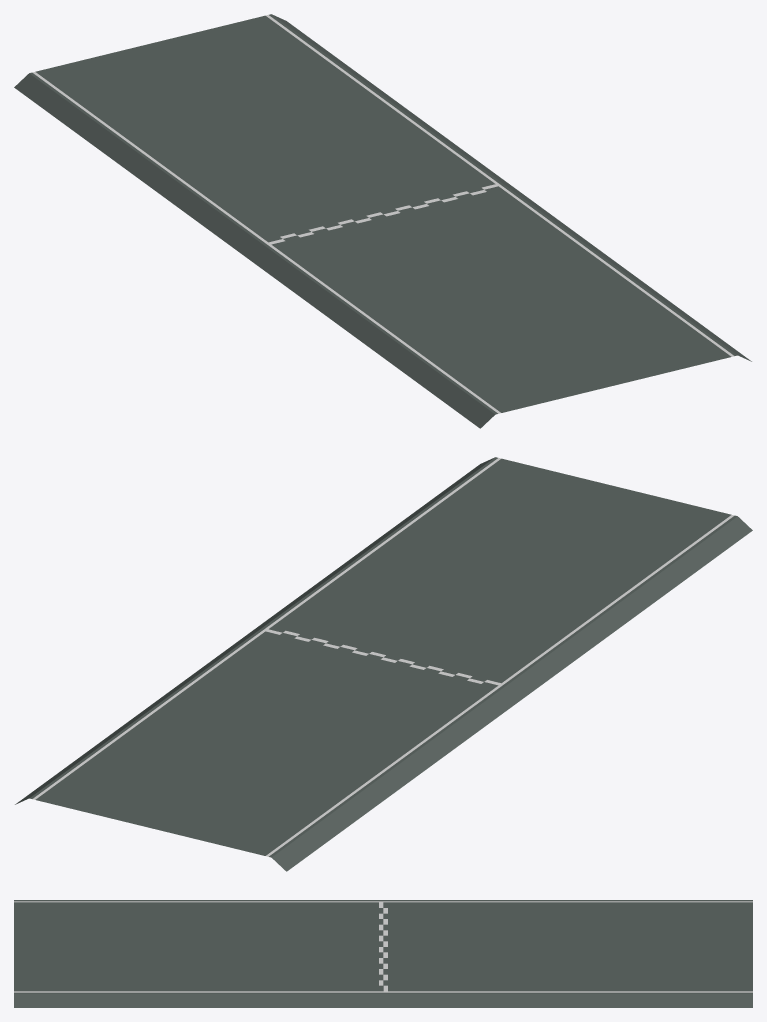
The model's file is Straight_Finish.fbx.
3 renders of one model, top to bottom at view 1: azimuth 30°, elevation 25°; view 2: azimuth 150°, elevation 25°; view 3: azimuth 270°, elevation 25°, orthographic. The views are drawn at different scales.
Parts seen in each view (by area): view 1: Road; view 2: Road; view 3: Road.
Boxes of the visible parts, x1,y1,x2,y2 form: Road: (14,14,751,428); Road: (15,457,752,871); Road: (14,900,752,1007).
Size of the model in its own units: 27 by 1 by 80.
